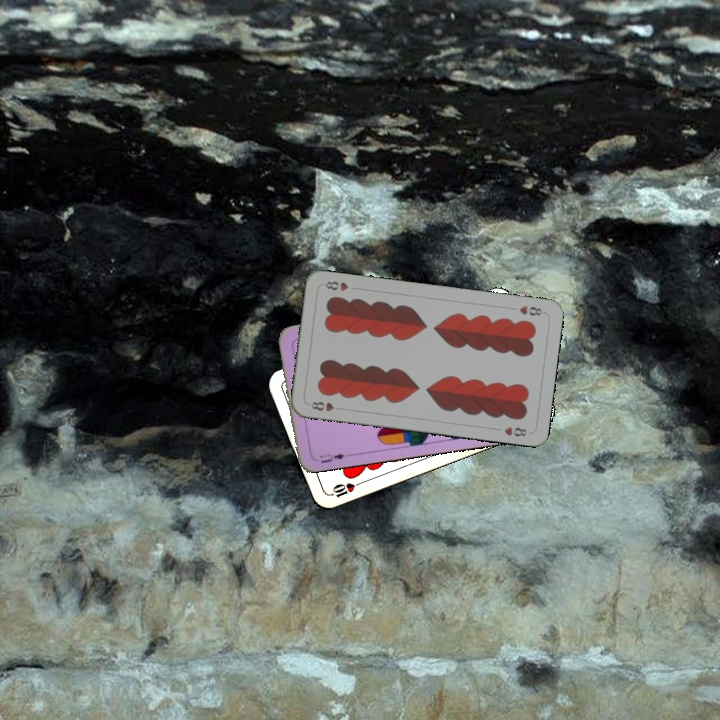EU: (311, 449, 351, 466)
H10: (325, 478, 364, 500)
H8: (307, 397, 345, 414), (515, 302, 547, 318)
